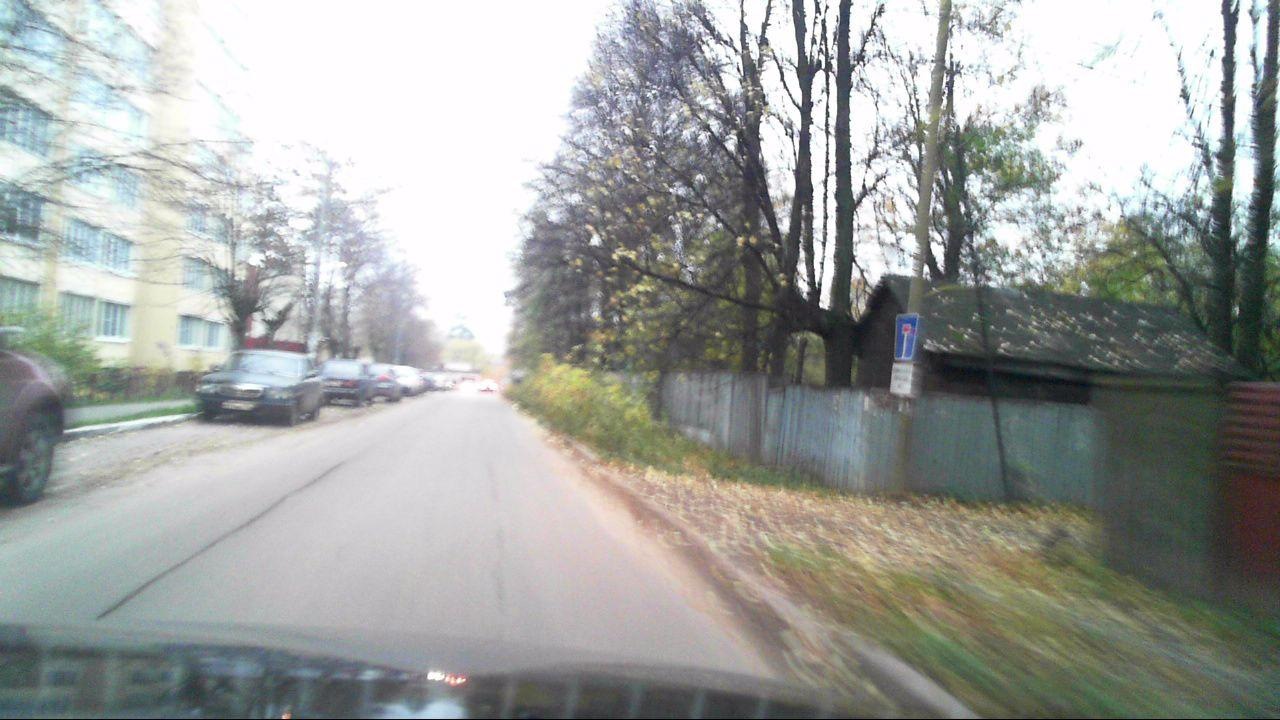6_8_1: (893, 314, 917, 360)
